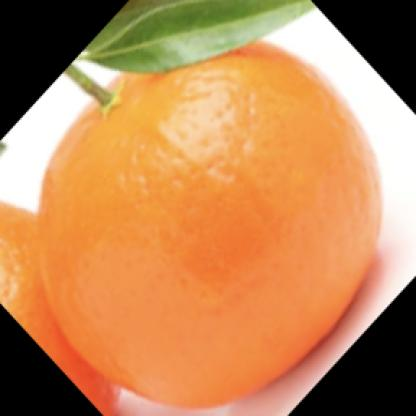fresh: (39, 46, 385, 406)
